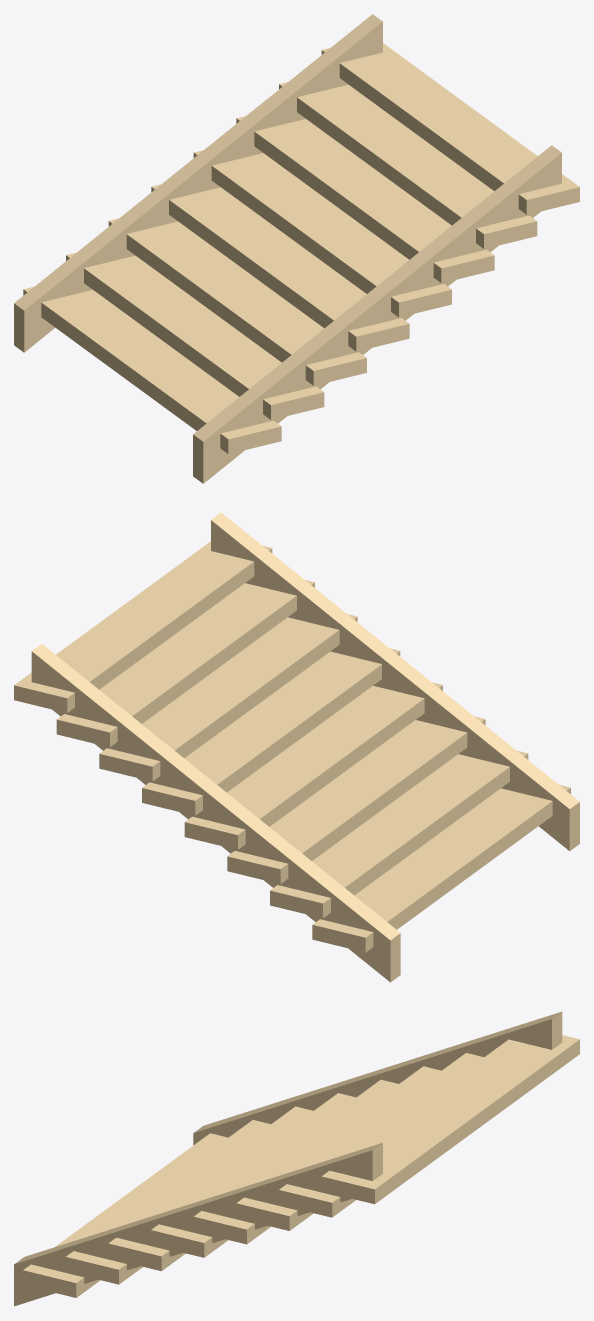
File: Stairs.fbx
3 renders of one model, top to bottom at view 1: azimuth 30°, elevation 25°; view 2: azimuth 150°, elevation 25°; view 3: azimuth 330°, elevation 25°, orthographic.
Visible parts, largest first — view 1: Stair; view 2: Stair; view 3: Stair.
Part boxes in pixels (x1,y1,x2,y2): Stair: (14,14,579,483); Stair: (14,512,579,982); Stair: (14,1011,579,1306).
Size of the model in its own units: 415 by 262 by 400.
